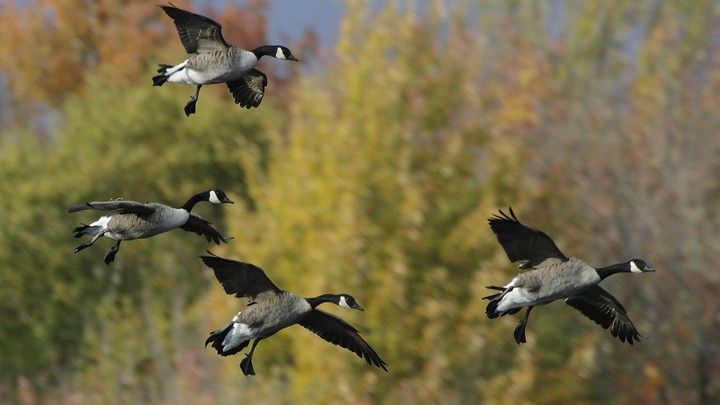goose: (482, 206, 658, 352), (198, 253, 392, 378), (148, 3, 300, 120), (64, 186, 236, 266)
